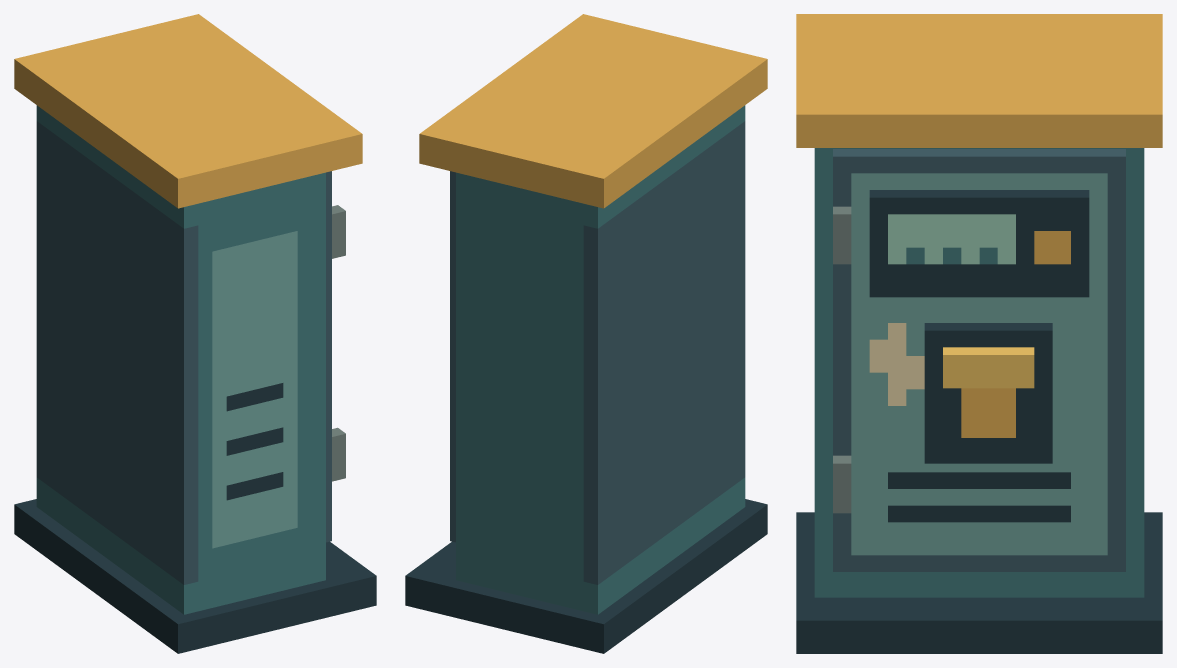
The model's file is SM_ATVPowerCabinet.fbx.
The picture shows the model from 3 angles, left to right: view 1: azimuth 30°, elevation 25°; view 2: azimuth 150°, elevation 25°; view 3: azimuth 270°, elevation 25°; orthographic projection. The views are drawn at different scales.
Parts seen in each view (by area): view 1: SM_ATVPowerCabinet; view 2: SM_ATVPowerCabinet; view 3: SM_ATVPowerCabinet.
Part boxes in pixels (x1,y1,x2,y2): SM_ATVPowerCabinet: [14, 14, 376, 653]; SM_ATVPowerCabinet: [405, 14, 767, 653]; SM_ATVPowerCabinet: [796, 14, 1162, 653].
Size of the model in its own units: 0.7 by 1 by 1.6.
1 material, 1 textured.
